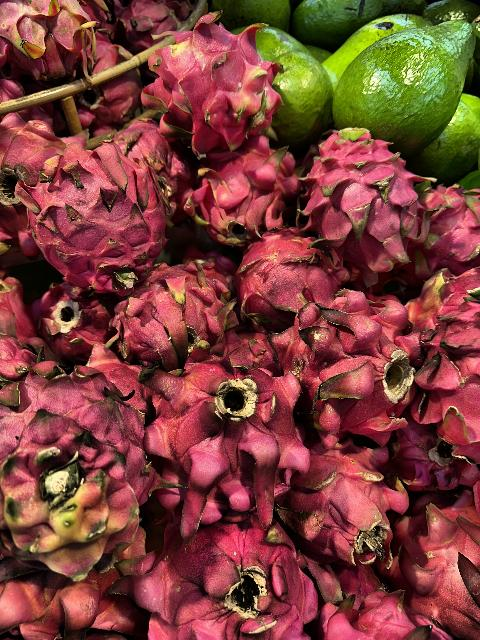buah-naga-belum-matang: (0, 360, 152, 570), (146, 17, 284, 154), (0, 0, 90, 76)
buah-naga-matang: (149, 352, 313, 512), (128, 526, 326, 640), (31, 138, 161, 280), (304, 128, 428, 270), (274, 444, 404, 576), (300, 290, 410, 430), (400, 486, 480, 640), (226, 228, 352, 324), (186, 134, 298, 233), (110, 274, 234, 360), (426, 261, 480, 453)
